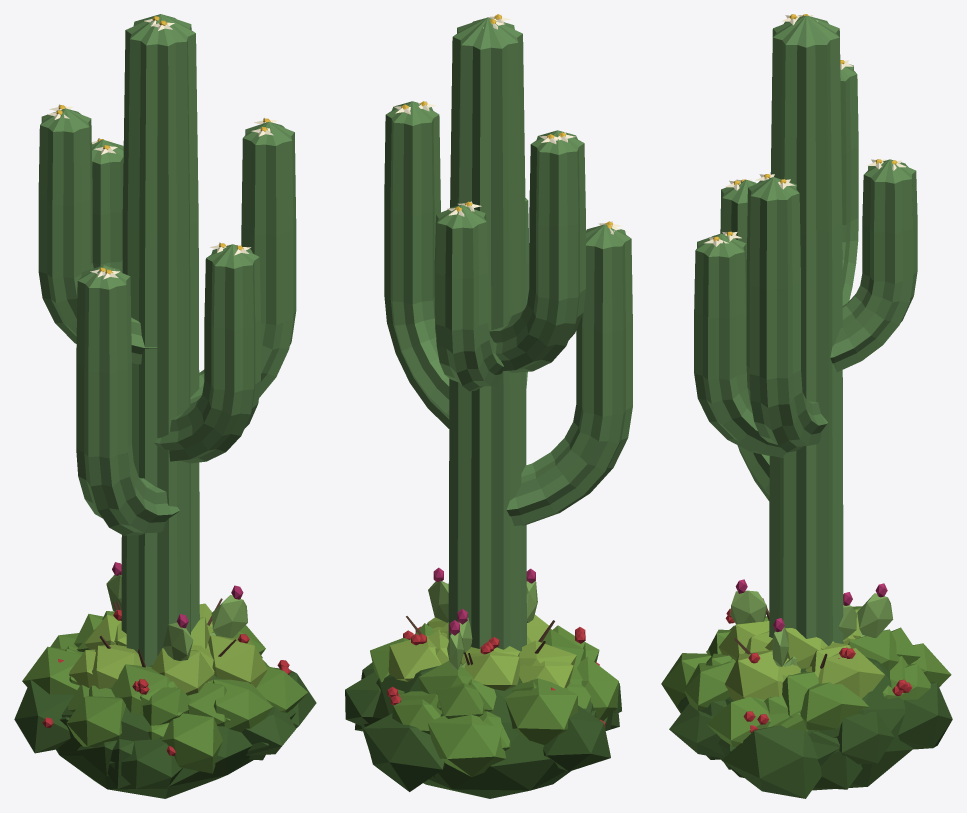
The model's file is flora.glb.
3 views of the same model, side by side, from view 1: azimuth 30°, elevation 25°; view 2: azimuth 150°, elevation 25°; view 3: azimuth 270°, elevation 25° (orthographic).
Visible parts, largest first — view 1: saguaro0, saguaro1, bush1, bush2, bush0, pear; view 2: saguaro0, bush1, saguaro1, bush2, bush0, pear; view 3: saguaro0, bush1, saguaro1, bush2, bush0, pear.
Boxes of the visible parts, box(x1,y1,x2,y2) form: saguaro0: box(38, 14, 296, 666); saguaro1: box(76, 138, 260, 535); bush1: box(14, 598, 316, 798); bush2: box(42, 609, 296, 789); bush0: box(65, 601, 268, 777); pear: box(106, 562, 247, 660); saguaro0: box(384, 14, 585, 651); bush1: box(345, 614, 621, 798); saguaro1: box(434, 198, 632, 525); bush2: box(387, 620, 619, 730); bush0: box(355, 627, 612, 777); pear: box(428, 567, 537, 670); saguaro0: box(746, 14, 858, 645); bush1: box(661, 606, 952, 798); saguaro1: box(694, 159, 917, 500); bush2: box(718, 598, 912, 769); bush0: box(696, 625, 907, 789); pear: box(730, 579, 893, 666).
Bounding box in the file's own units: 2.41 × 6.74 × 2.39.
